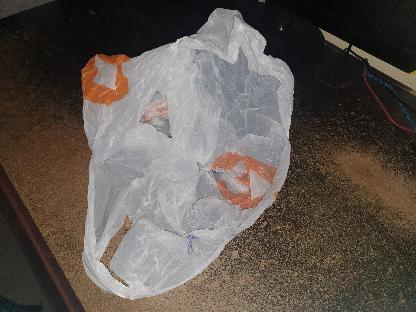Plastic Bag: (81, 8, 294, 302)
